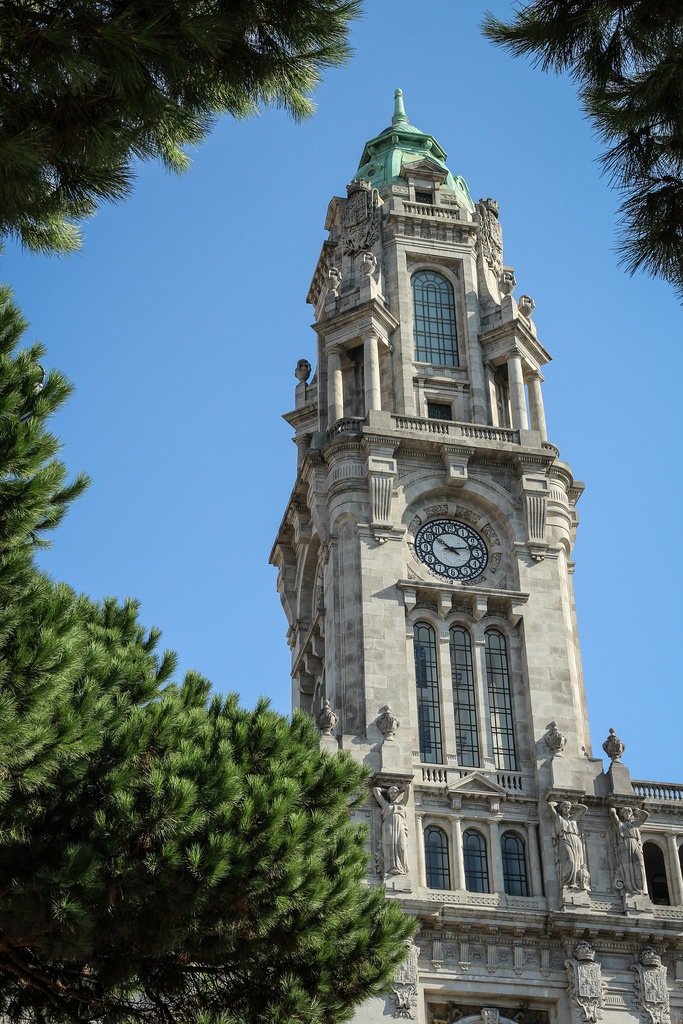camara: (265, 86, 682, 1023)
